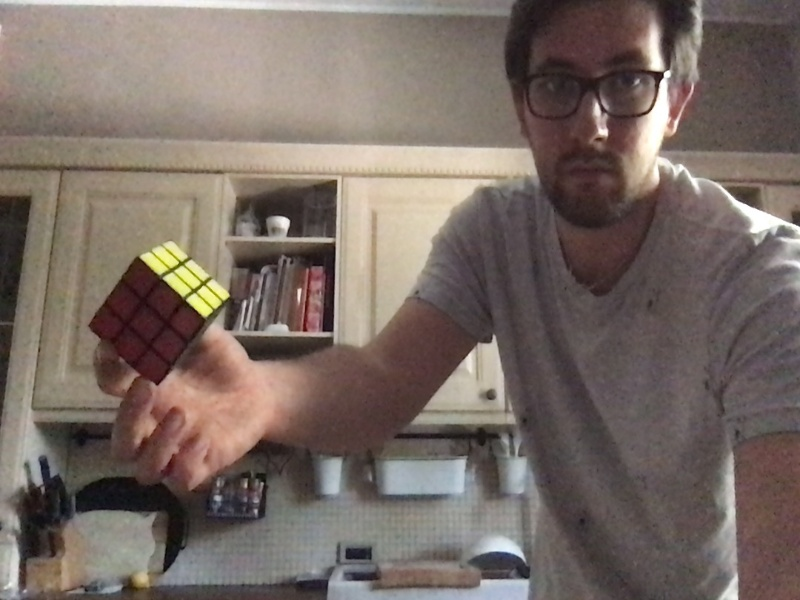rubik: (88, 241, 230, 387)
